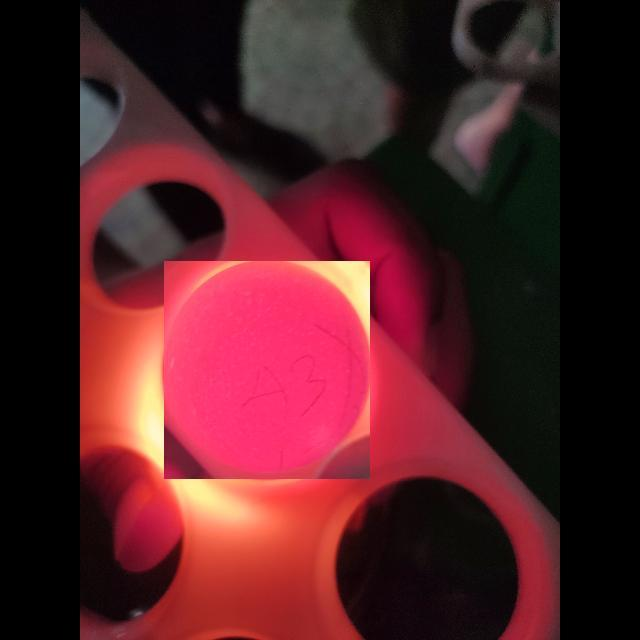Infertile: (164, 261, 370, 479)
